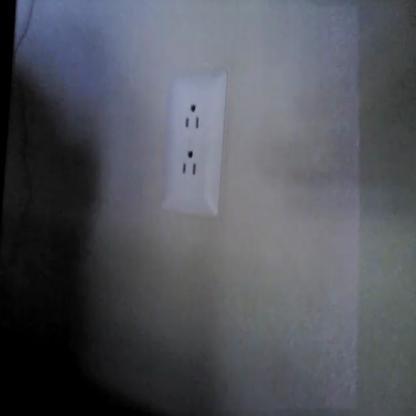OUTLET: (161, 65, 229, 215)
